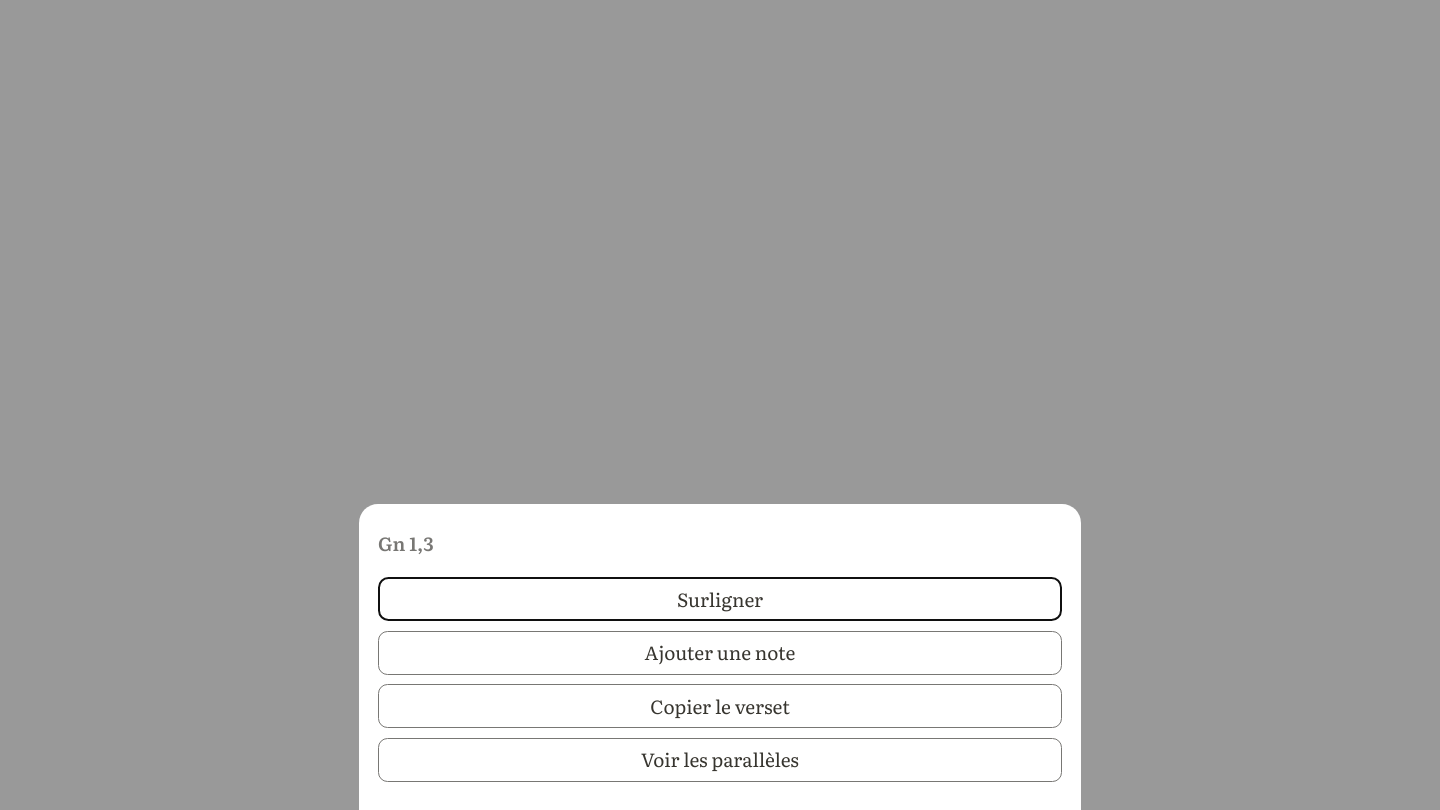
Test: VerseMenu › connecté mais compte pas encore chargé : « Enregistrer » attend, avec un message
The image size is (1440, 810).
Step 1. Click the button "Ajouter une note" → click(720, 652), box [378, 630, 1062, 674]
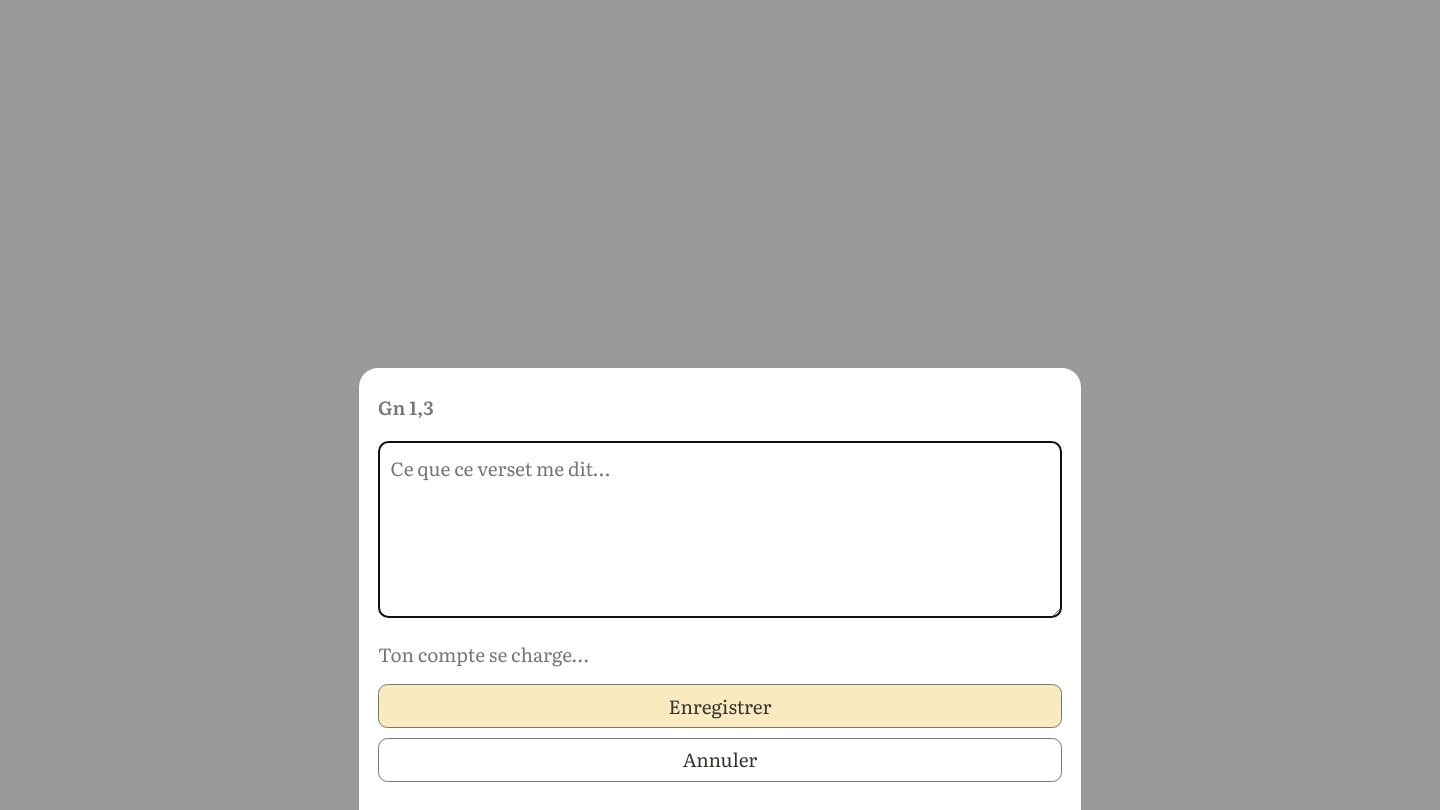
Expected: the button "Enregistrer" is disabled, [378, 684, 1062, 728]
Expected: the text "Ton compte se charge…" is shown, [378, 640, 589, 668]
